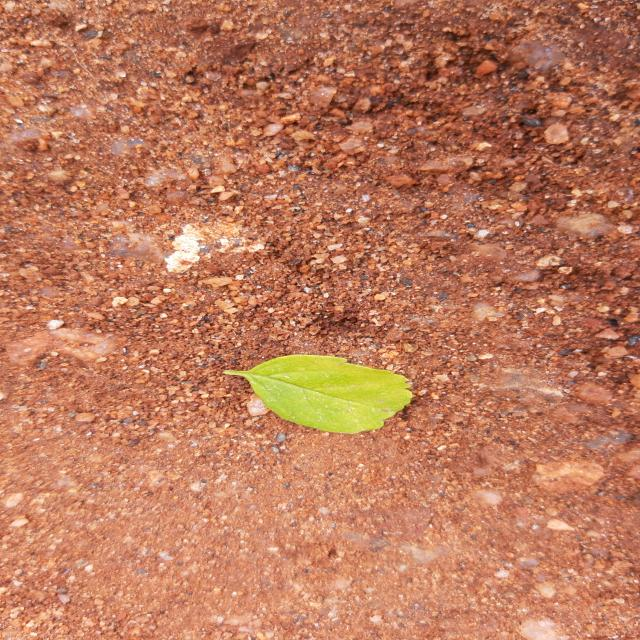tecoma: (224, 355, 413, 434)
